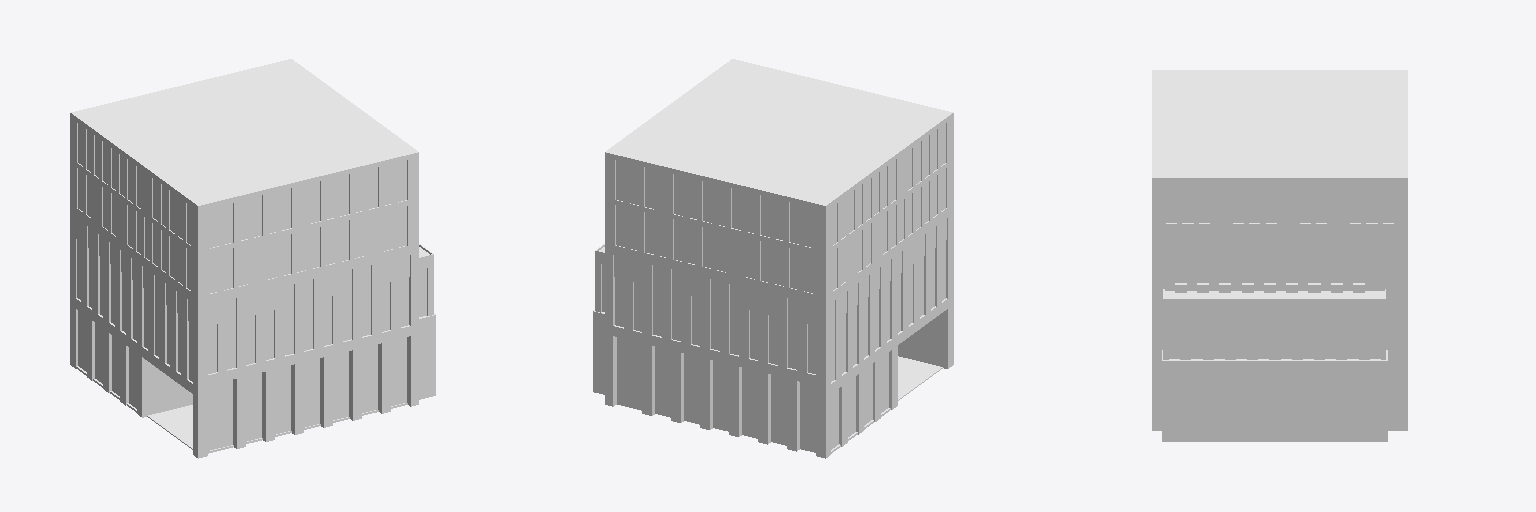
Rendered from GDS2_Skyscraper-2.obj.
3 renders of one model, left to right at view 1: azimuth 30°, elevation 25°; view 2: azimuth 150°, elevation 25°; view 3: azimuth 270°, elevation 25°, orthographic.
Visible parts, largest first — view 1: GDS2_Skyscraper-2; view 2: GDS2_Skyscraper-2; view 3: GDS2_Skyscraper-2.
Part boxes in pixels (x1,y1,x2,y2): GDS2_Skyscraper-2: (70,59,435,458); GDS2_Skyscraper-2: (593,59,953,458); GDS2_Skyscraper-2: (1152,70,1407,441).
Size of the model in its own units: 25.2 by 25 by 22.9.